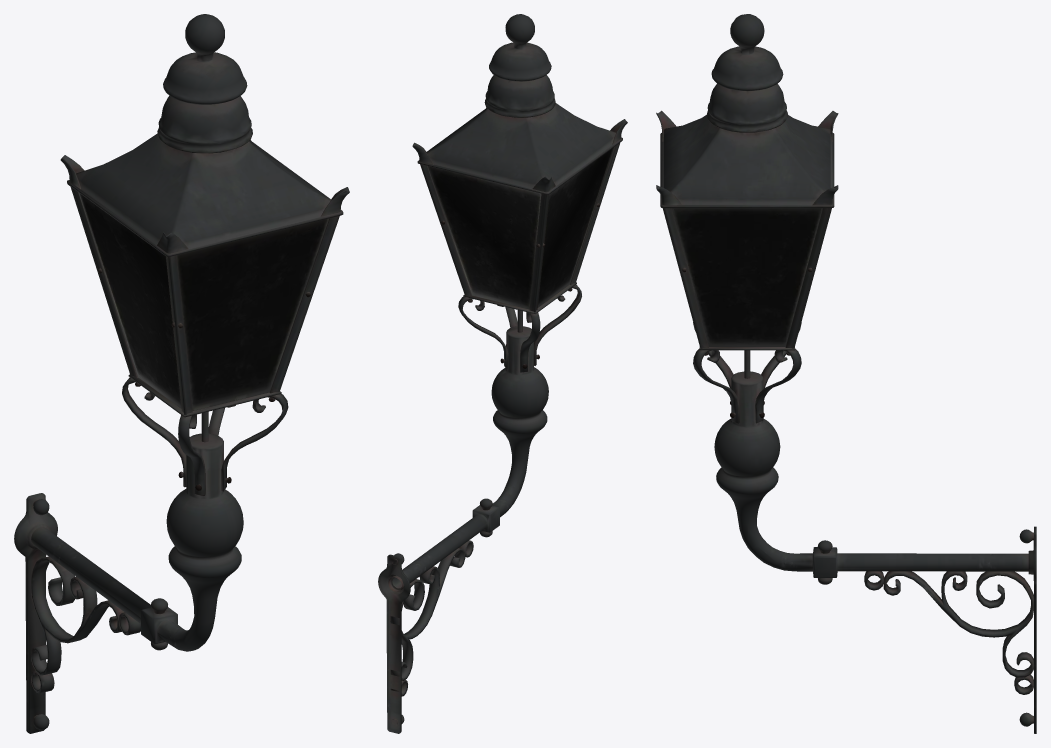
File: street_lamp_02.glb
3 views of the same model, side by side, from view 1: azimuth 30°, elevation 25°; view 2: azimuth 150°, elevation 25°; view 3: azimuth 270°, elevation 25° (orthographic). The views are drawn at different scales.
Parts seen in each view (by area): view 1: street_lamp_02; view 2: street_lamp_02; view 3: street_lamp_02.
Part boxes in pixels (x1,y1,x2,y2): street_lamp_02: [14, 14, 349, 733]; street_lamp_02: [378, 14, 627, 733]; street_lamp_02: [656, 14, 1036, 733].
Bounding box in the file's own units: 0.3862 × 1.67 × 0.8068.
Materials: 2 (2 with a texture image).
